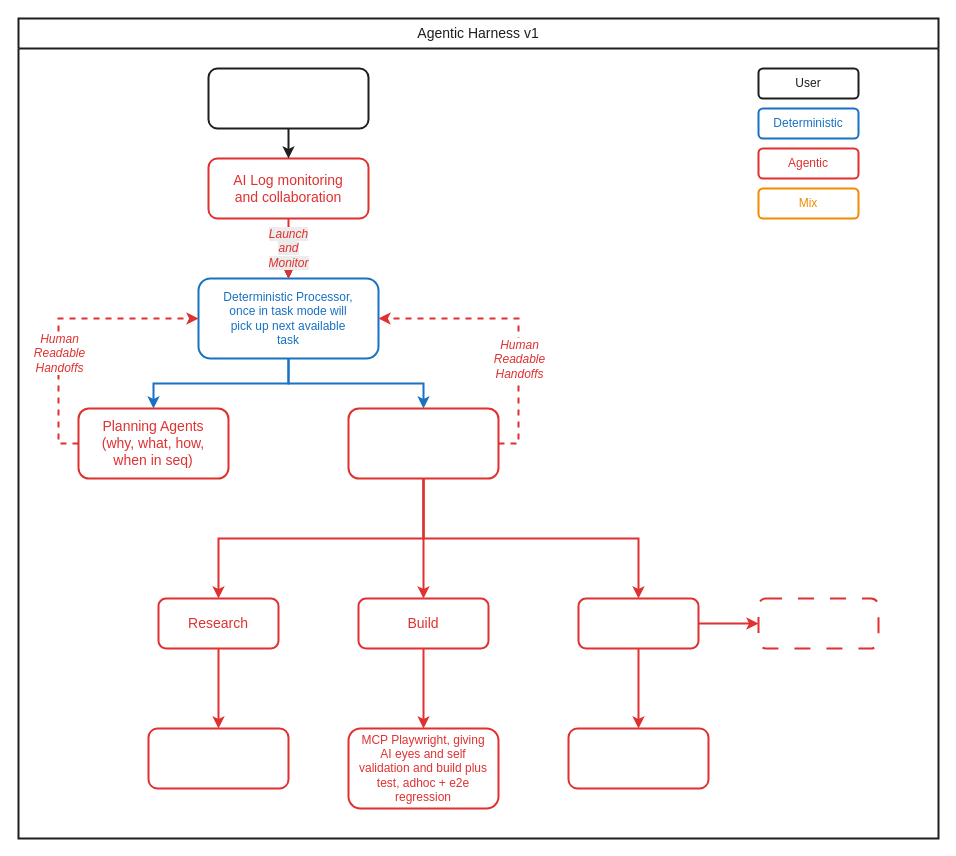
Some shapes in this 956 by 856 pixel diagram are drawn without their labels. Each missing label, with the box of its shape:
Analyze current code and goal, generate task spec: (147, 727, 289, 789)
Call for human in the loop or replan: (757, 597, 879, 649)
Long Spec (Human + AI), no prompting: (207, 67, 369, 129)
Task Level Agents: (347, 407, 499, 479)
Validate (product owner UAT): (577, 597, 699, 649)
Will create subtask (if executing on v2, will create v2.1): (567, 727, 709, 789)
